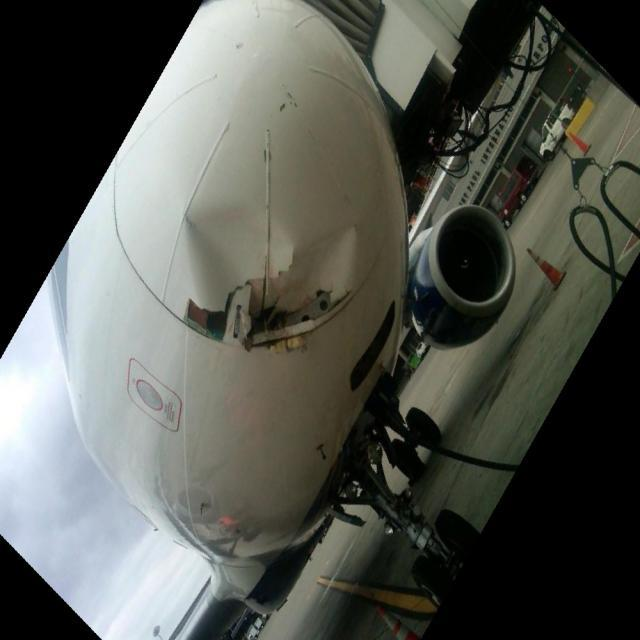dent: (188, 202, 291, 314), (291, 218, 364, 295)
